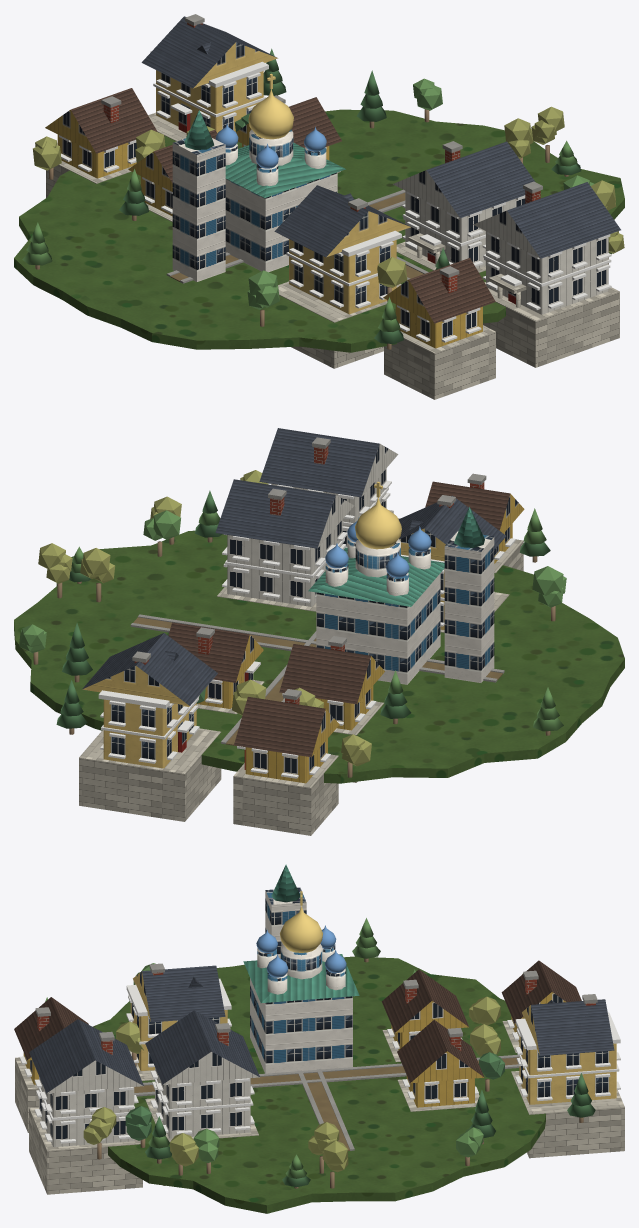
File: city_east_town.gltf
3 renders of one model, top to bottom at view 1: azimuth 30°, elevation 25°; view 2: azimuth 150°, elevation 25°; view 3: azimuth 270°, elevation 25°, orthographic. The views are drawn at different scales.
Parts seen in each view (by area): view 1: city_east_town; view 2: city_east_town; view 3: city_east_town.
Boxes of the visible parts, bbox=[...] form: city_east_town: bbox=[14, 14, 624, 399]; city_east_town: bbox=[14, 428, 624, 835]; city_east_town: bbox=[14, 864, 624, 1213].
Bounding box in the file's own units: 2 × 0.764 × 2.07.
Materials: 20 (13 with a texture image).
